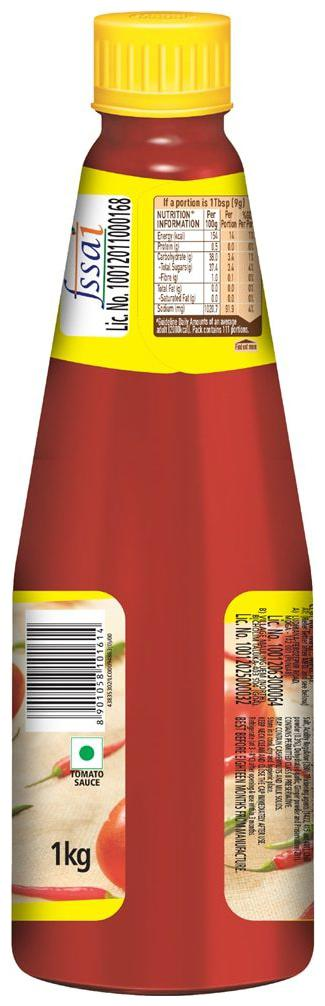fssai: (64, 224, 106, 313)
